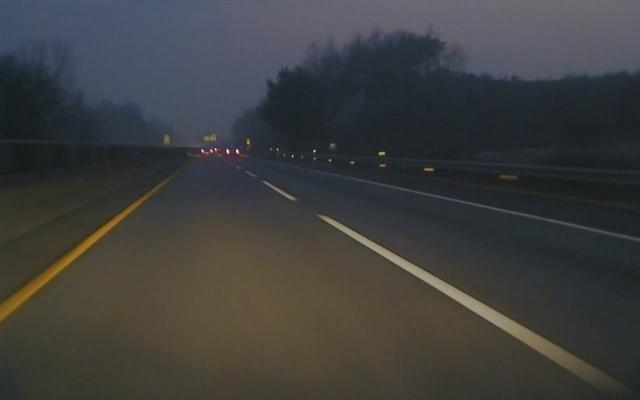lane: (249, 172, 635, 396), (2, 182, 162, 321), (348, 176, 640, 242)
